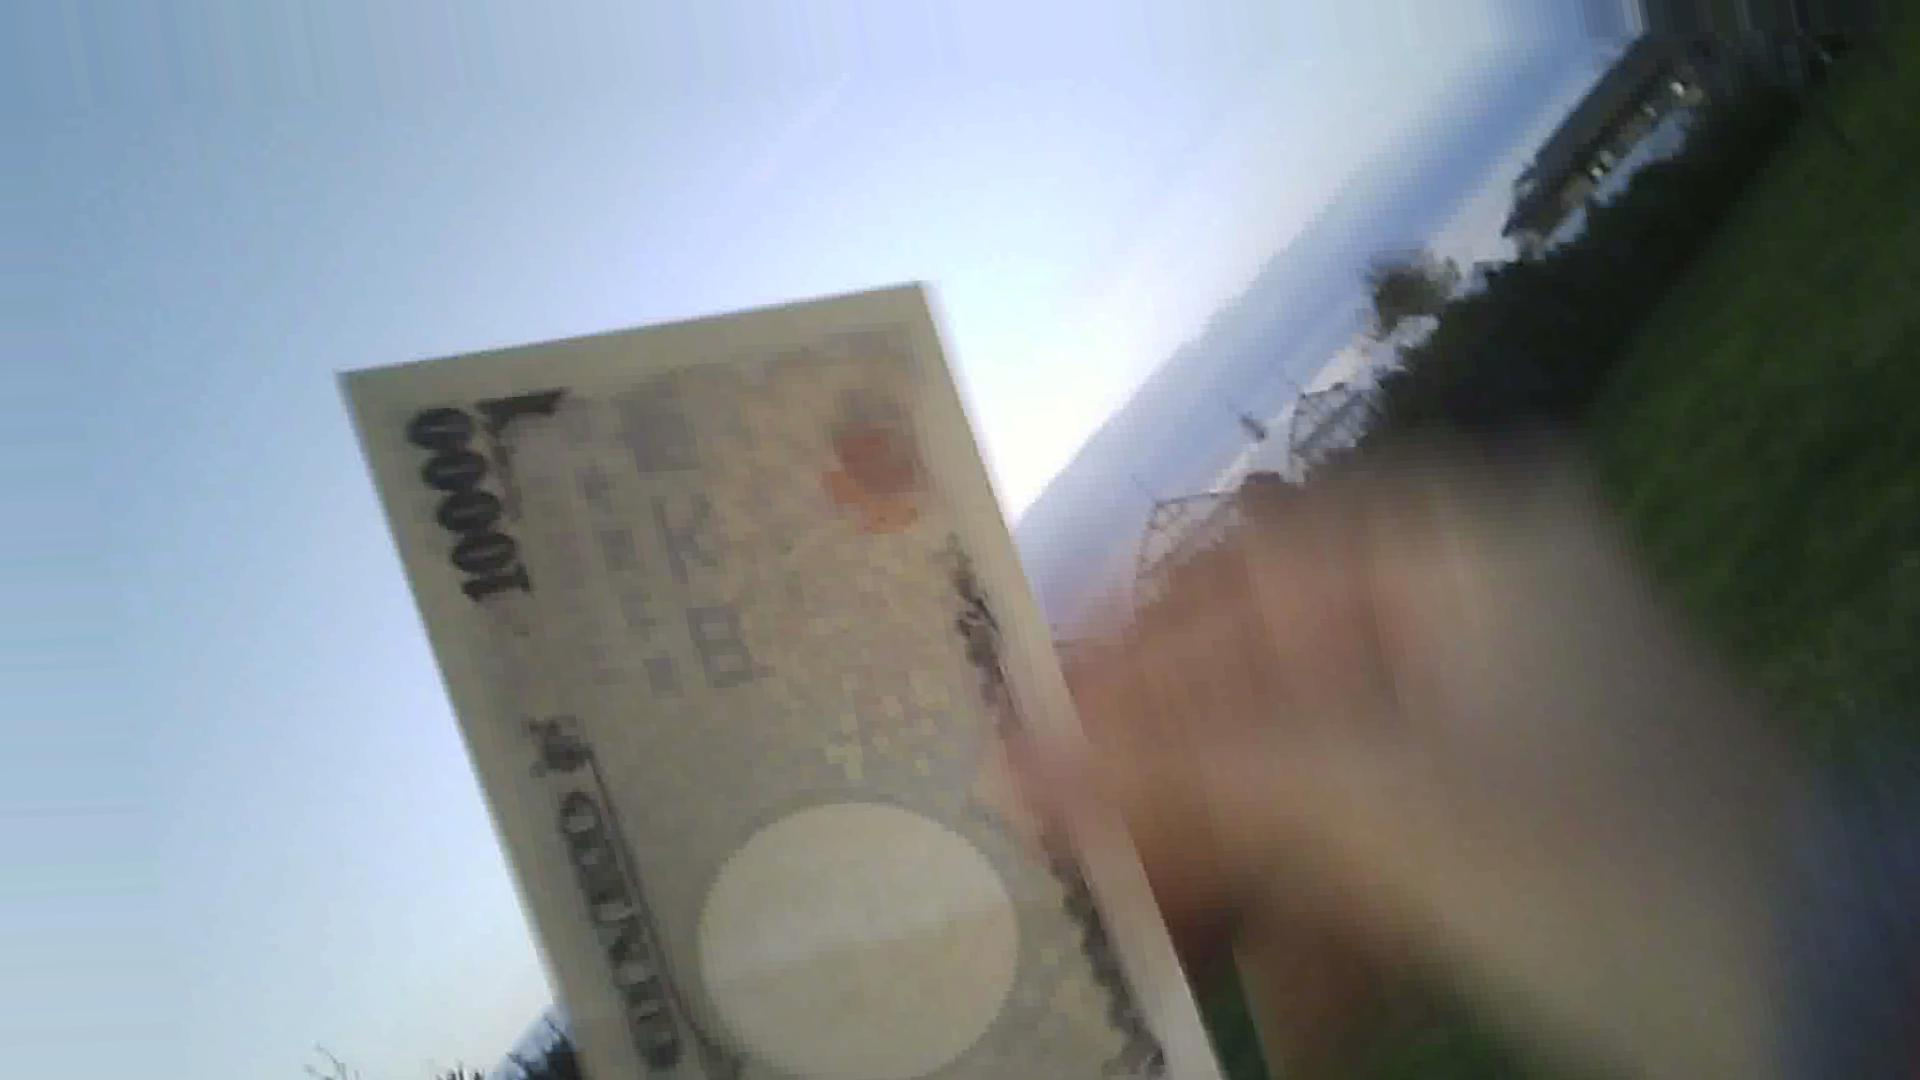10,000 Yen: (324, 257, 1191, 1067)
